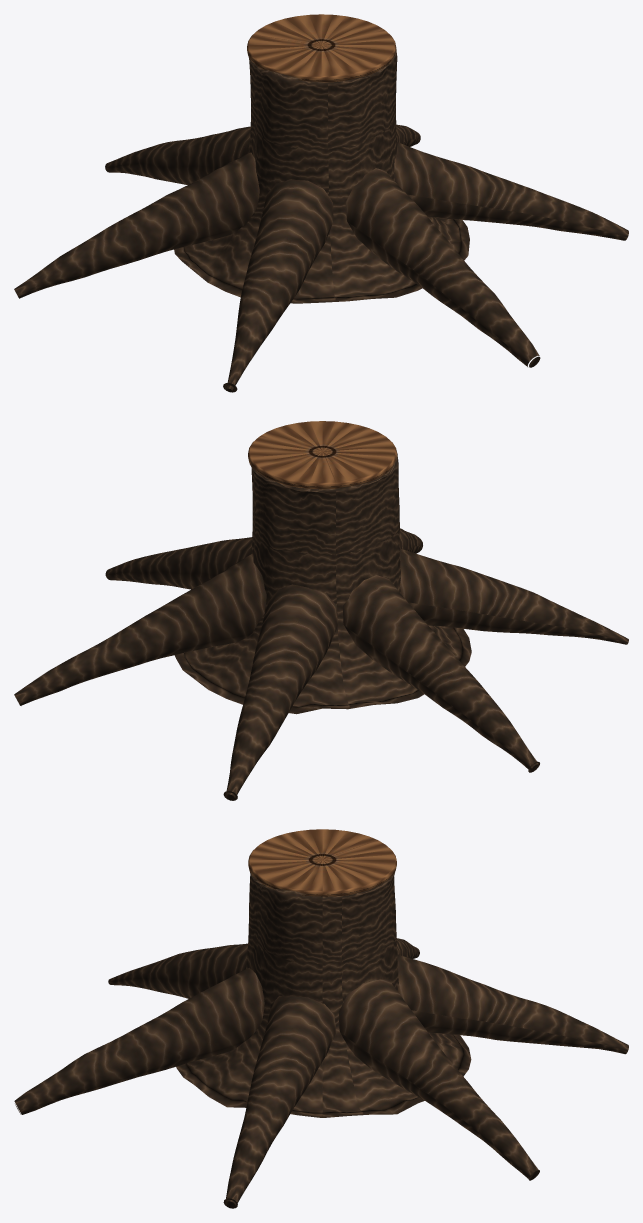
File: stump_with_roots.gltf
The picture shows the model from 3 angles, top to bottom: view 1: azimuth 30°, elevation 25°; view 2: azimuth 150°, elevation 25°; view 3: azimuth 270°, elevation 25°; orthographic projection.
Parts seen in each view (by area): view 1: stump_with_roots; view 2: stump_with_roots; view 3: stump_with_roots.
Part boxes in pixels (bbox=[...]): stump_with_roots: bbox=[14, 14, 628, 392]; stump_with_roots: bbox=[14, 421, 628, 800]; stump_with_roots: bbox=[14, 829, 628, 1208].
Bounding box in the file's own units: 4.05 × 1.67 × 4.14.
2 materials, 2 textured.
